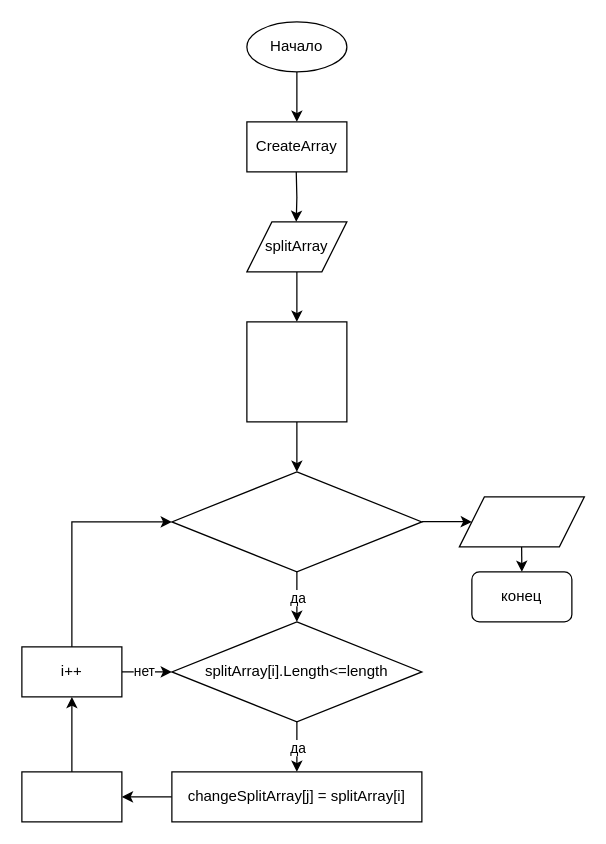
Image size: 606x844. Some labels were removed from this diagram. The shapes that lost their labels are listed below. From the top down, each one's centre as x and y in pixels, then its label:
At (x=296, y=371): "ChangeArray i =0 j =0 lenght =3".
At (x=296, y=521): "i<splitArray.Length".
At (x=521, y=521): "output".
At (x=71, y=796): "j++".
